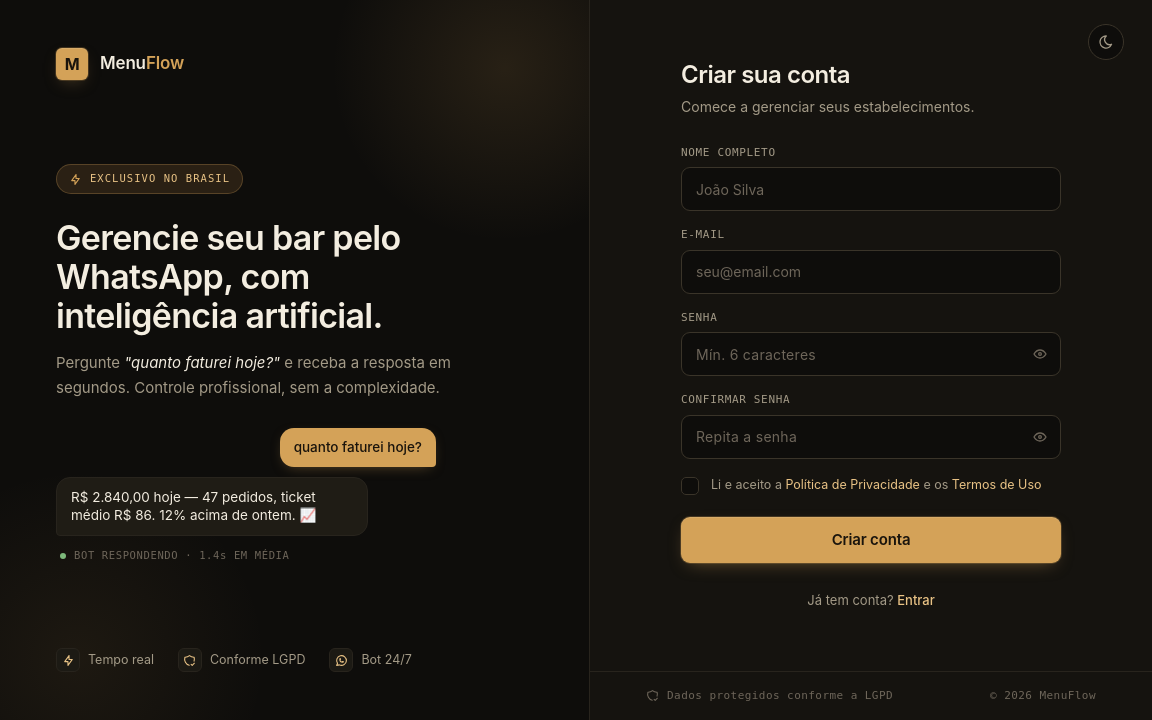
Test case: Register — validação › exibe erro quando nome é muito curto
The image size is (1152, 720).
Type "A" into the field with test id "input-name". click: [871, 189]
box: top-left (682, 168), bottom-right (1060, 210)
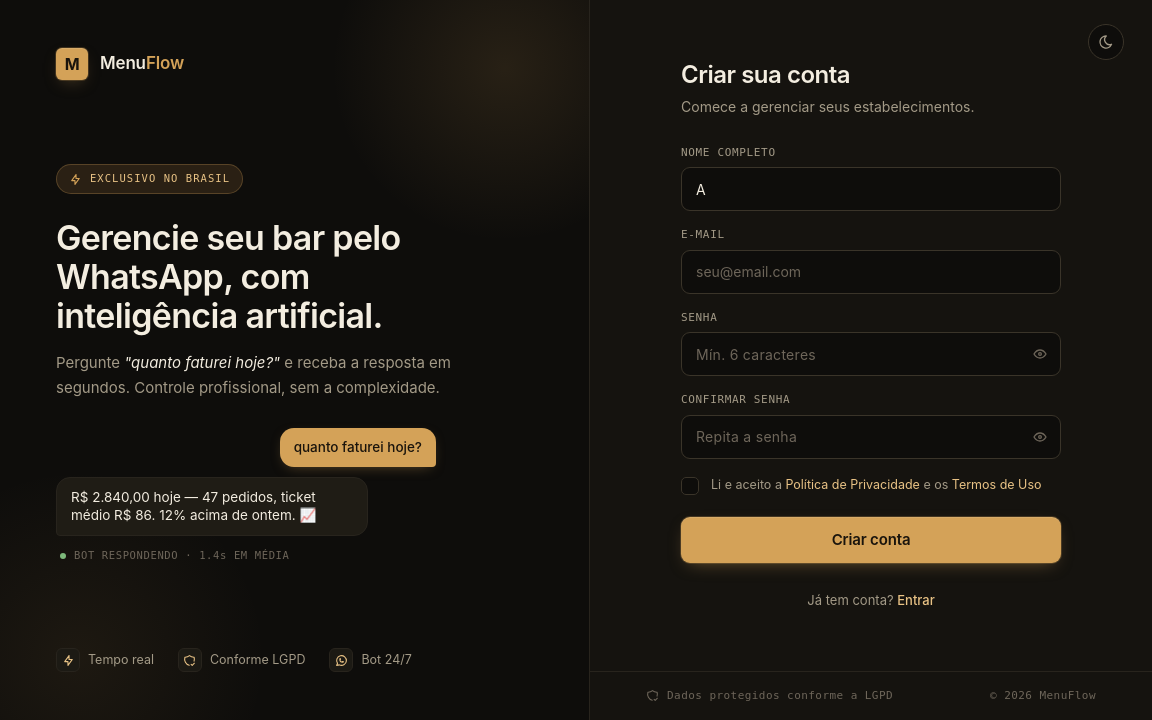
Type "joao@test.com" into the field with test id "input-email". click: [871, 272]
box: top-left (682, 251), bottom-right (1060, 293)
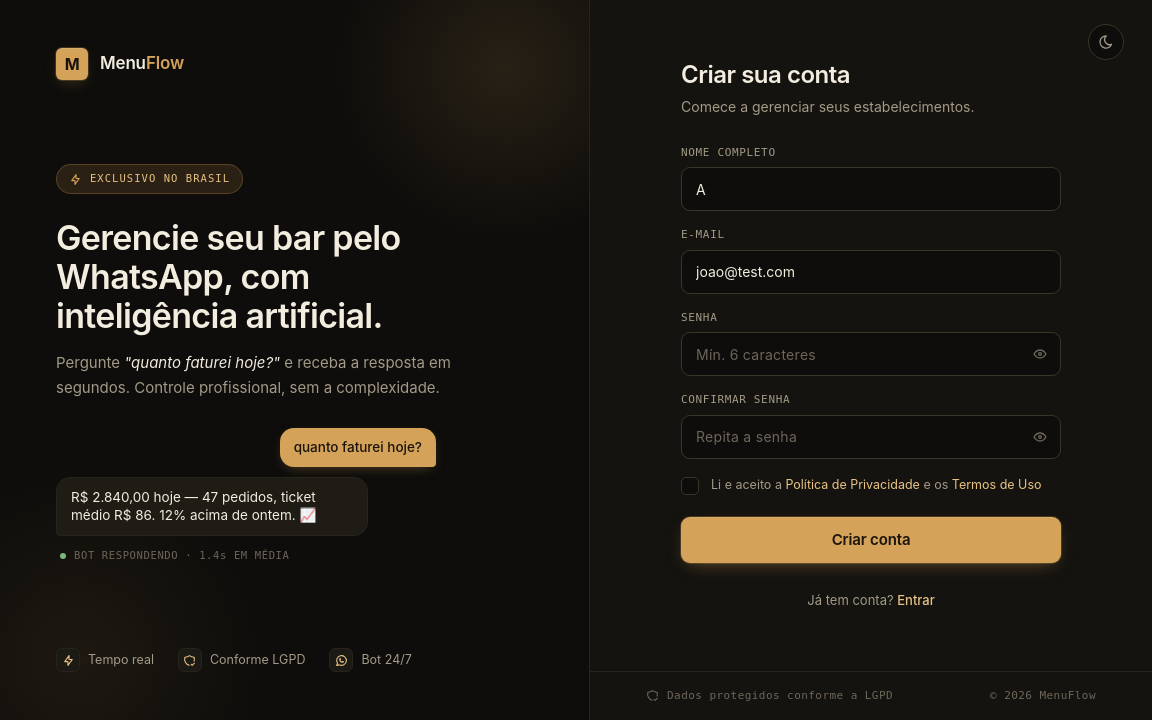
Type "123456" into the password field with test id "input-password". click: [871, 354]
box: top-left (682, 333), bottom-right (1060, 375)
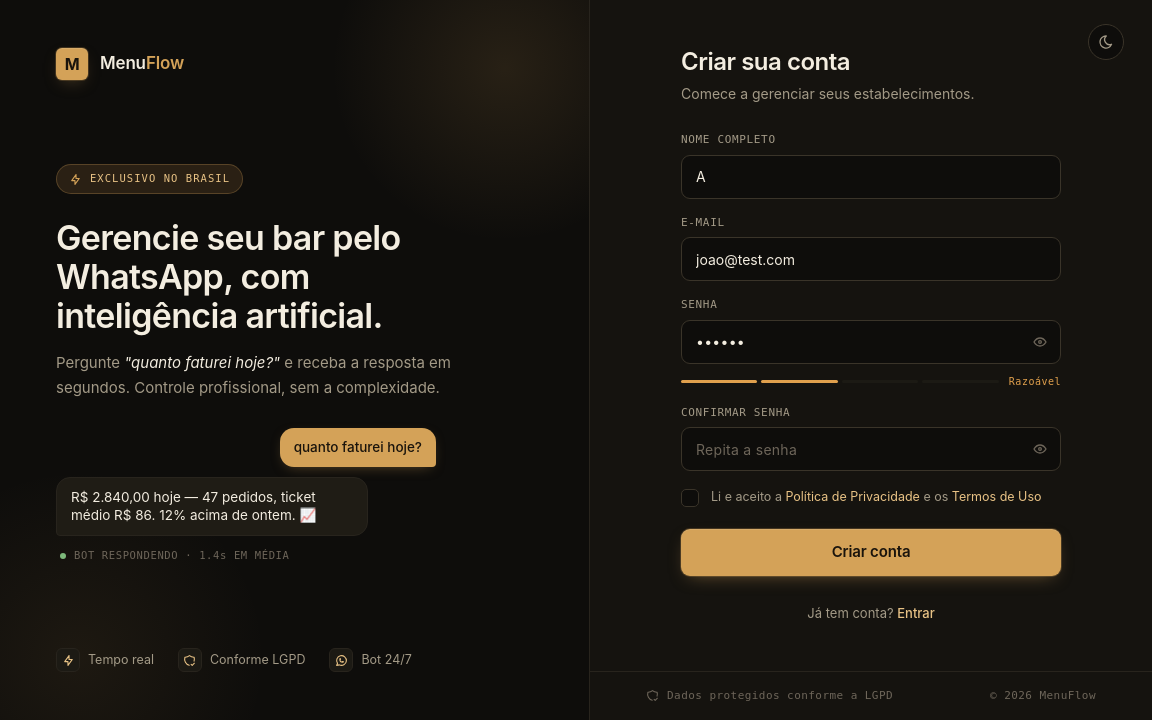
Type "123456" into the password field with test id "input-confirm-password". click: [871, 449]
box: top-left (682, 428), bottom-right (1060, 470)
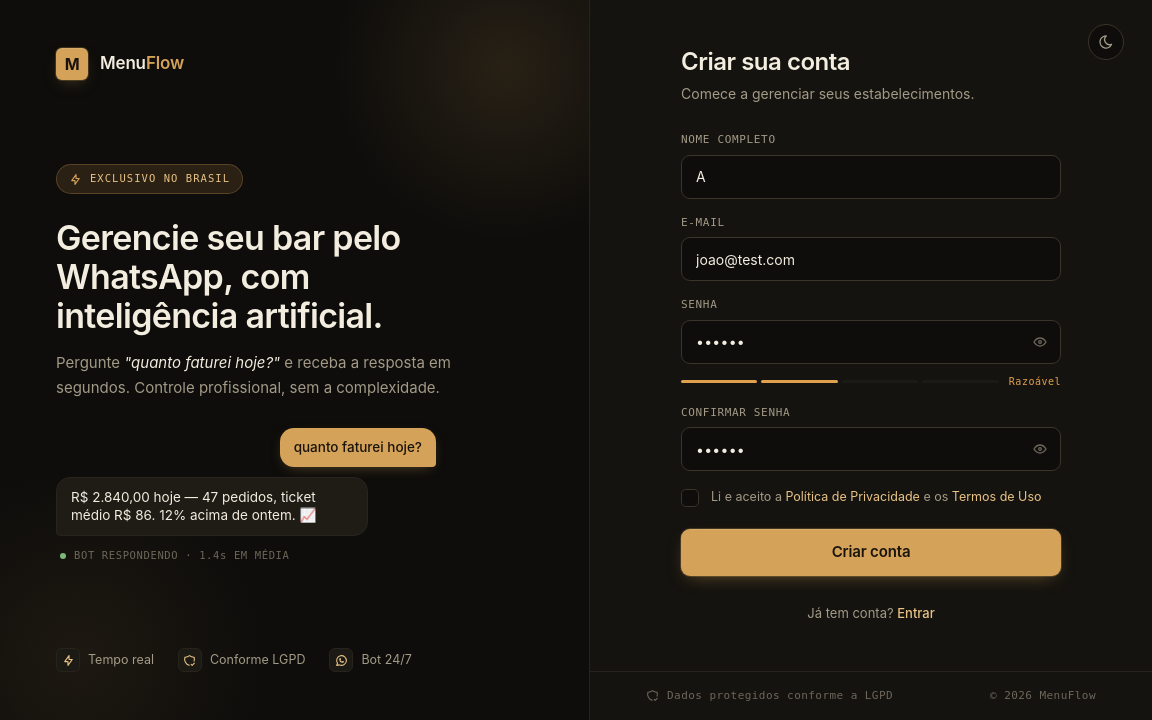
Click the button with test id "btn-signup". click: [871, 553]
box: top-left (681, 529), bottom-right (1061, 576)
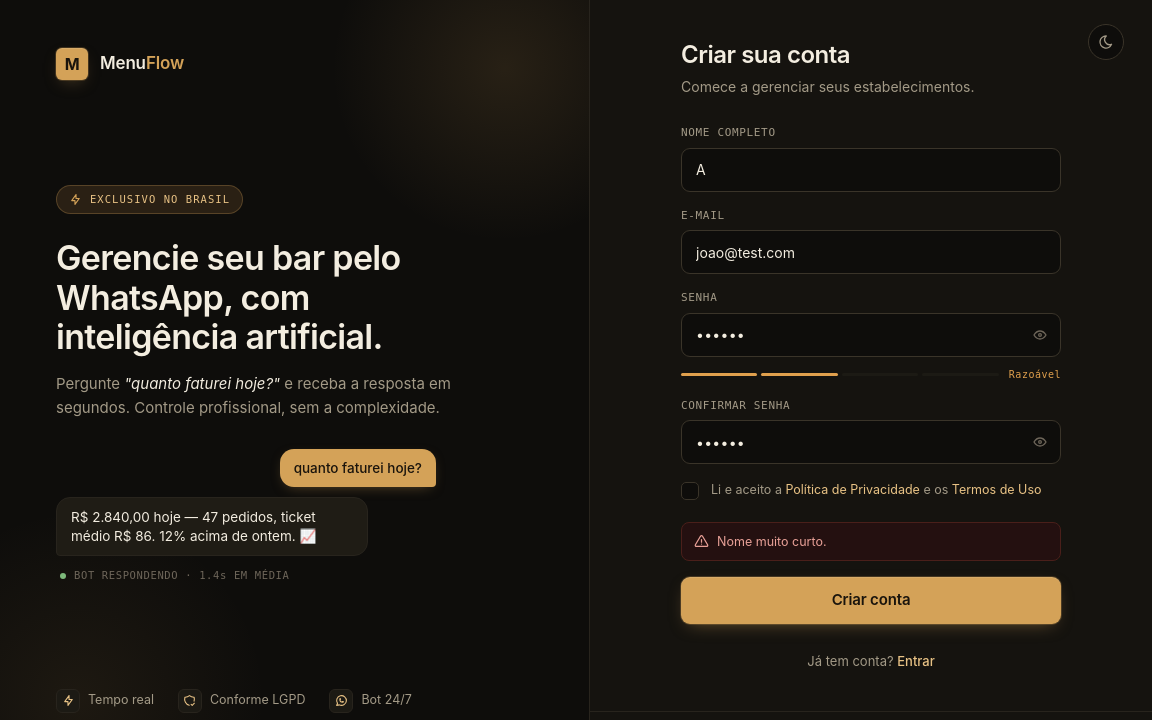
Check: the element with test id "error-message" is shown, box top-left (681, 522), bottom-right (1061, 561)
